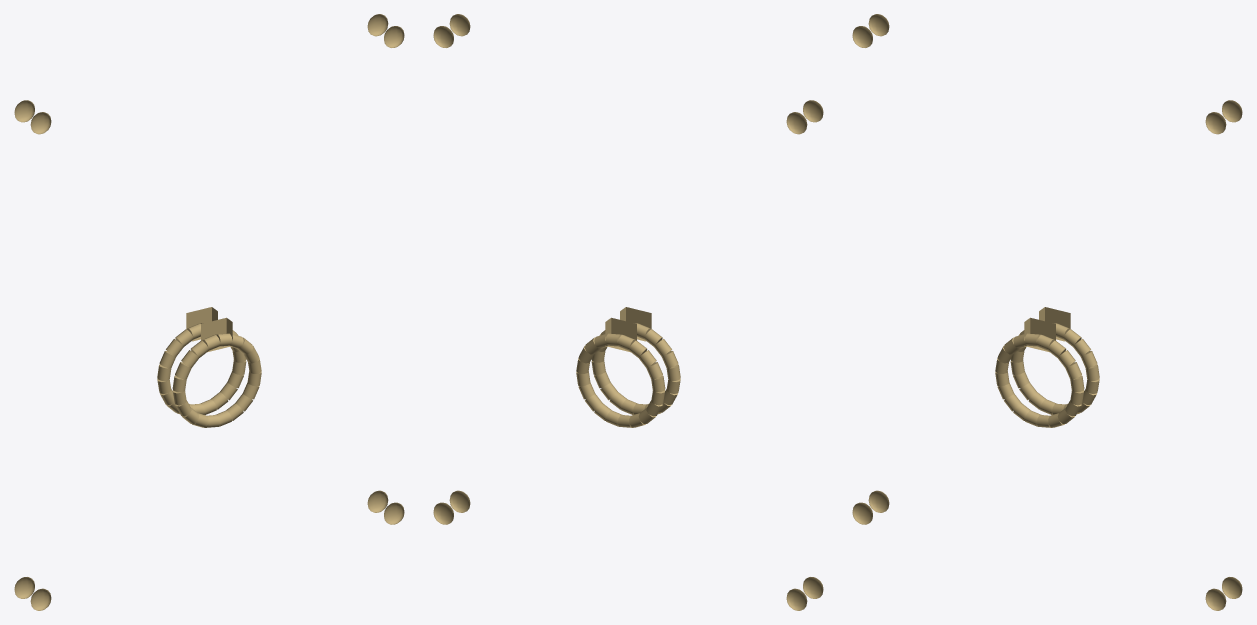
File: door_bosses.gltf
The picture shows the model from 3 angles, left to right: view 1: azimuth 30°, elevation 25°; view 2: azimuth 150°, elevation 25°; view 3: azimuth 330°, elevation 25°; orthographic projection.
Bounding box in the file's own units: 0.584 × 0.744 × 0.06.
